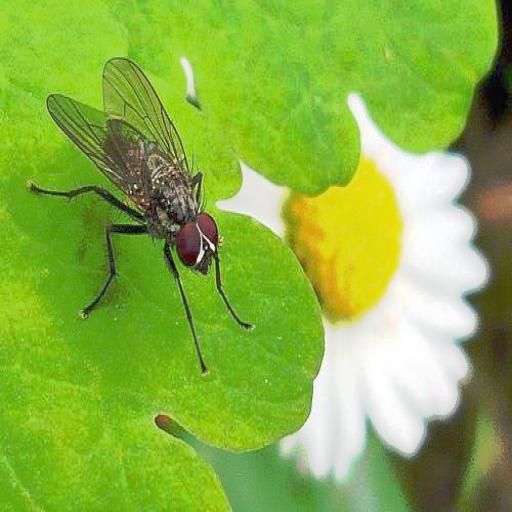daisy: (227, 94, 475, 447)
